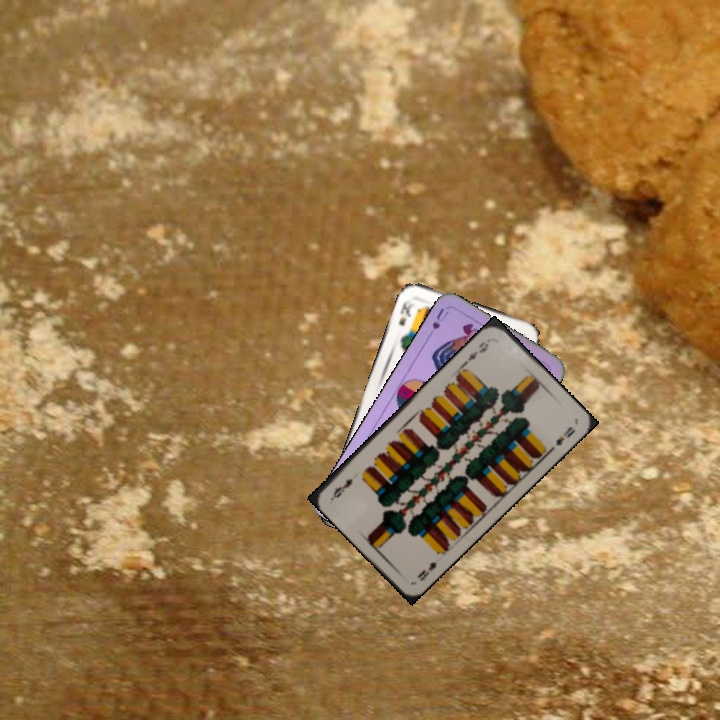E9: (461, 335, 493, 367), (413, 557, 440, 584)
EK: (394, 294, 417, 329)
SU: (428, 304, 451, 333)
